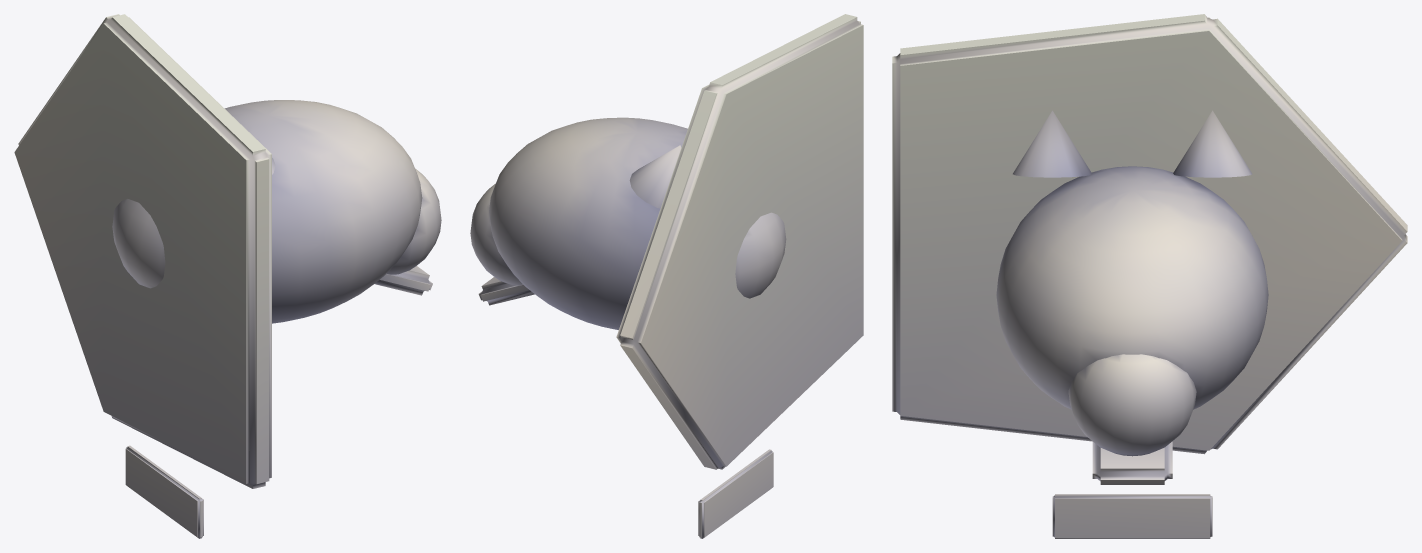
The model's file is trophy-leopard.glb.
The picture shows the model from 3 angles, left to right: view 1: azimuth 30°, elevation 25°; view 2: azimuth 150°, elevation 25°; view 3: azimuth 270°, elevation 25°; orthographic projection. The views are drawn at different scales.
Visible parts, largest first — view 1: body; view 2: body; view 3: body.
Boxes of the visible parts, x1=… form: body: x1=14, y1=14, x2=441, y2=538; body: x1=470, y1=14, x2=863, y2=538; body: x1=892, y1=14, x2=1407, y2=538.
Size of the model in its own units: 0.481 by 0.7088 by 0.6436.
